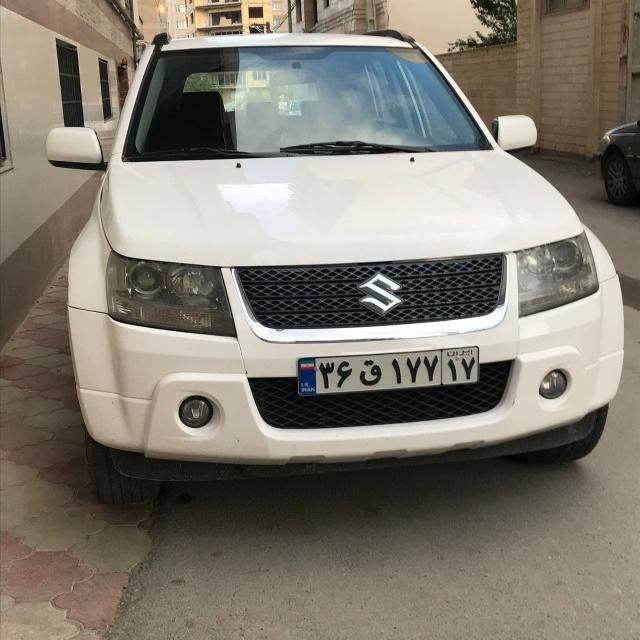Plates: (298, 344, 481, 396)
